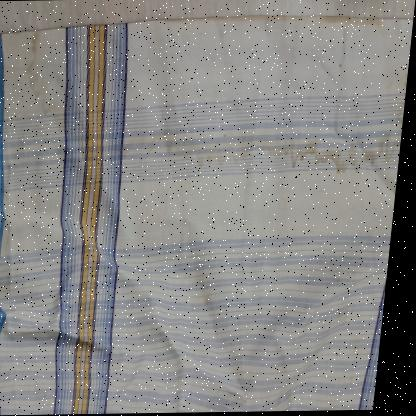spot: (259, 126, 399, 178), (123, 136, 266, 177), (199, 262, 223, 316)
